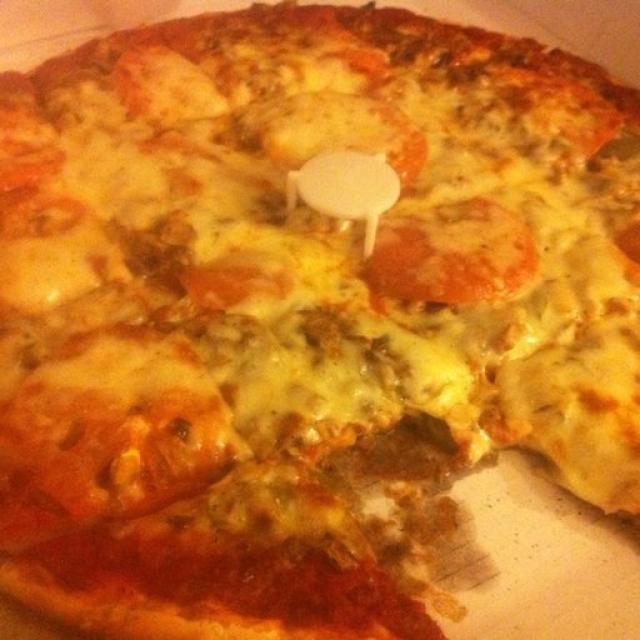Pepperoni: (388, 209, 540, 295), (274, 103, 421, 162), (185, 252, 287, 308)
Pizza: (0, 6, 640, 640)
